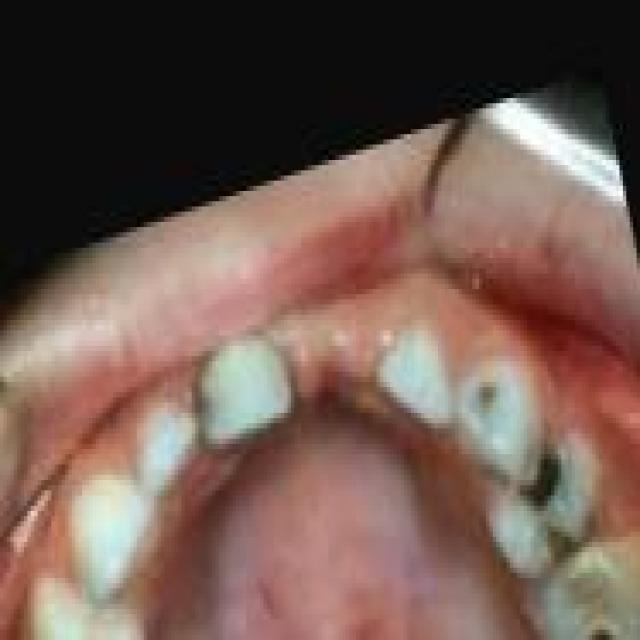caries: (515, 424, 594, 580), (558, 563, 638, 640), (174, 356, 225, 459), (462, 358, 510, 452)
